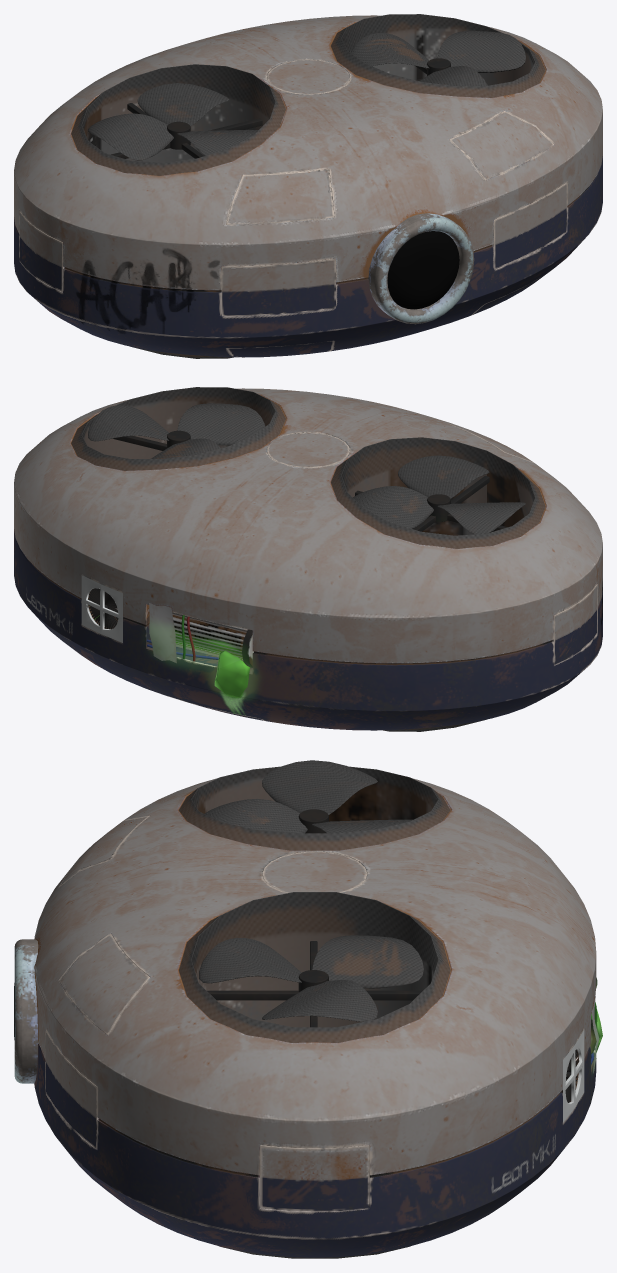
File: leon_animated.fbx
3 views of the same model, one above another, from view 1: azimuth 30°, elevation 25°; view 2: azimuth 150°, elevation 25°; view 3: azimuth 270°, elevation 25° (orthographic). The views are drawn at different scales.
Visible parts, largest first — view 1: Leon, Trappes, Trappe Top, Fans.Right, Fans.Left, Eye, Eye.001, Trappe Bottom; view 2: Leon, Fans.Right, Fans.Left, Trappe Top, Trappes; view 3: Leon, Fans.Left, Trappes, Trappe Top, Fans.Right, Eye.
Boxes of the visible parts, x1,y1,x2,y2 form: Leon: (14,14,602,358); Trappes: (19,182,567,316); Trappe Top: (226,59,554,224); Fans.Right: (88,83,258,160); Fans.Left: (350,31,525,85); Eye: (368,213,474,324); Eye.001: (387,231,459,309); Trappe Bottom: (226,269,552,357); Leon: (14,387,602,731); Fans.Right: (353,455,525,534); Fans.Left: (88,403,265,458); Trappe Top: (243,388,534,467); Trappes: (552,584,597,665); Leon: (34,766,602,1258); Fans.Left: (199,935,423,1021); Trappes: (45,1030,369,1211); Trappe Top: (59,815,367,1035); Fans.Right: (204,760,412,833); Eye: (14,939,38,1083).
Bounding box in the file's own units: 200 × 82.7 × 148.
2 materials, 1 textured.
